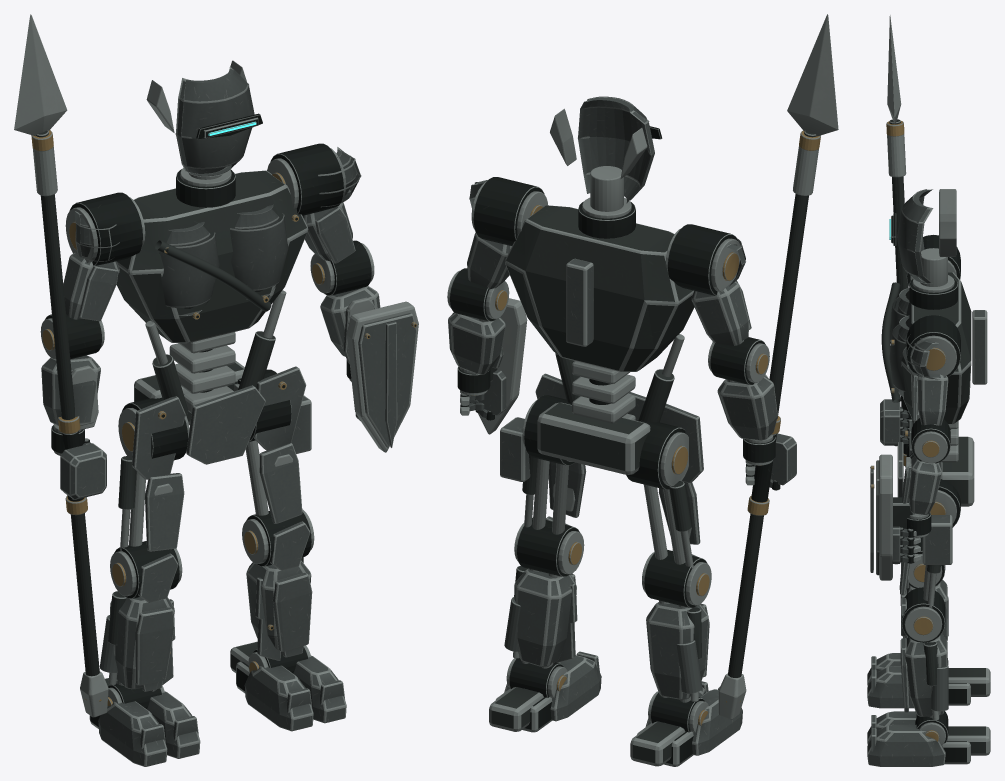
The model's file is speed-t4-hunter.glb.
The picture shows the model from 3 angles, left to right: view 1: azimuth 30°, elevation 25°; view 2: azimuth 150°, elevation 25°; view 3: azimuth 270°, elevation 25°; orthographic projection. The views are drawn at different scales.
Visible parts, largest first — view 1: chest__metal, weaponR__metal, pelvis__metal, pelvis__clay, chest__clay, kneeR__clay, kneeL__clay, head__clay, shieldL__clay, ankleL__clay, ankleR__clay, shoulderR__metal (+18 smaller); view 2: chest__metal, pelvis__metal, weaponR__metal, kneeL__clay, head__clay, kneeR__clay, shoulderR__metal, ankleL__metal, ankleR__metal, shoulderL__metal, kneeR__metal, kneeL__metal (+20 smaller); view 3: chest__metal, ankleL__clay, kneeL__clay, weaponR__metal, pelvis__metal, chest__clay, kneeL__metal, shoulderL__metal, shoulderL__clay, head__metal, shieldL__metal, ankleL__metal (+16 smaller).
Boxes of the visible parts, box(x1,y1,x2,y2) form: chest__metal: box(116, 168, 308, 343); weaponR__metal: box(14, 14, 108, 717); pelvis__metal: box(118, 290, 291, 460); pelvis__clay: box(132, 366, 306, 479); chest__clay: box(159, 204, 288, 315); kneeR__clay: box(99, 553, 178, 691); kneeL__clay: box(246, 521, 312, 660); head__clay: box(175, 66, 254, 176); shieldL__clay: box(358, 313, 416, 447); ankleL__clay: box(244, 655, 346, 731); ankleR__clay: box(98, 691, 200, 766); shoulderR__metal: box(65, 192, 145, 265); chest__metal: box(505, 197, 694, 371); pelvis__metal: box(522, 334, 688, 489); weaponR__metal: box(718, 14, 838, 719); kneeL__clay: box(504, 516, 577, 666); head__clay: box(577, 96, 654, 203); kneeR__clay: box(646, 550, 709, 699); shoulderR__metal: box(665, 224, 743, 342); ankleL__metal: box(489, 658, 566, 732); ankleR__metal: box(630, 691, 708, 766); shoulderL__metal: box(471, 177, 547, 245); kneeR__metal: box(642, 549, 711, 702); kneeL__metal: box(513, 518, 584, 668); chest__metal: box(881, 272, 971, 424); ankleL__clay: box(867, 711, 945, 766); kneeL__clay: box(900, 598, 948, 716); weaponR__metal: box(886, 15, 908, 467); pelvis__metal: box(904, 410, 974, 527); chest__clay: box(889, 288, 987, 396); kneeL__metal: box(901, 587, 945, 720); shoulderL__metal: box(906, 315, 960, 425); shoulderL__clay: box(902, 334, 948, 425); head__metal: box(889, 189, 956, 286); shieldL__metal: box(870, 454, 914, 580); ankleL__metal: box(915, 711, 990, 764).
Size of the model in its own units: 2.77 by 5.14 by 0.9089.
10 materials, 9 textured.
